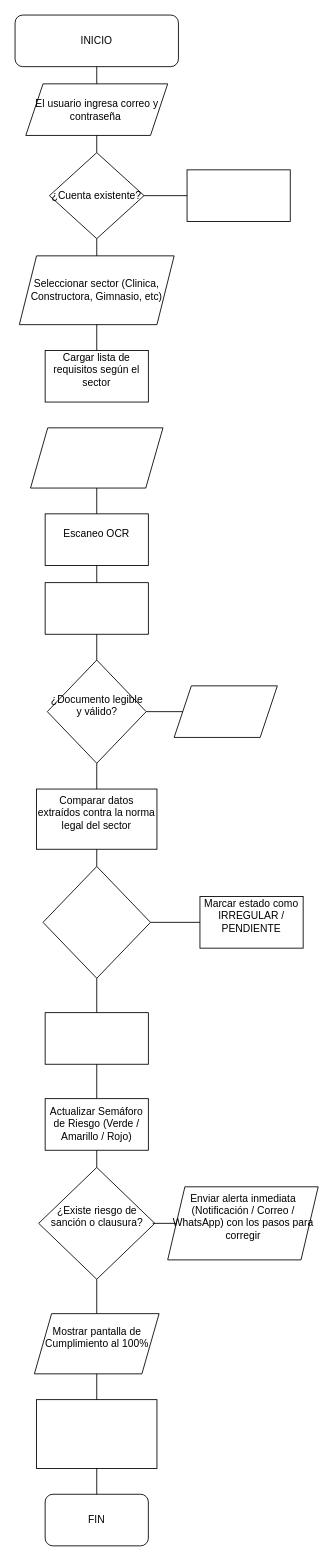
The diagram is 334 pixels wide and 1561 high, and some of its shapes have lost their labels. The shapes that lost their labels are listed below. From the top down, each one's box as (x1, y1, x2, y2) in pixels, then its label:
(186, 169, 290, 221): Crear perfil de la empresa
(30, 427, 163, 488): Usuario sube foto/PDF del documento
(44, 582, 148, 634): Escaneo con Inteligencia Artificial
(173, 685, 277, 737): Mostrar error: Documento no reconocido
(42, 866, 150, 978): ¿Documento vigente y completo?
(44, 1012, 148, 1064): Marcar estado como APROBADO / EN ORDEN
(36, 1399, 157, 1468): Programar recordatorios automáticos previos al vencimiento
